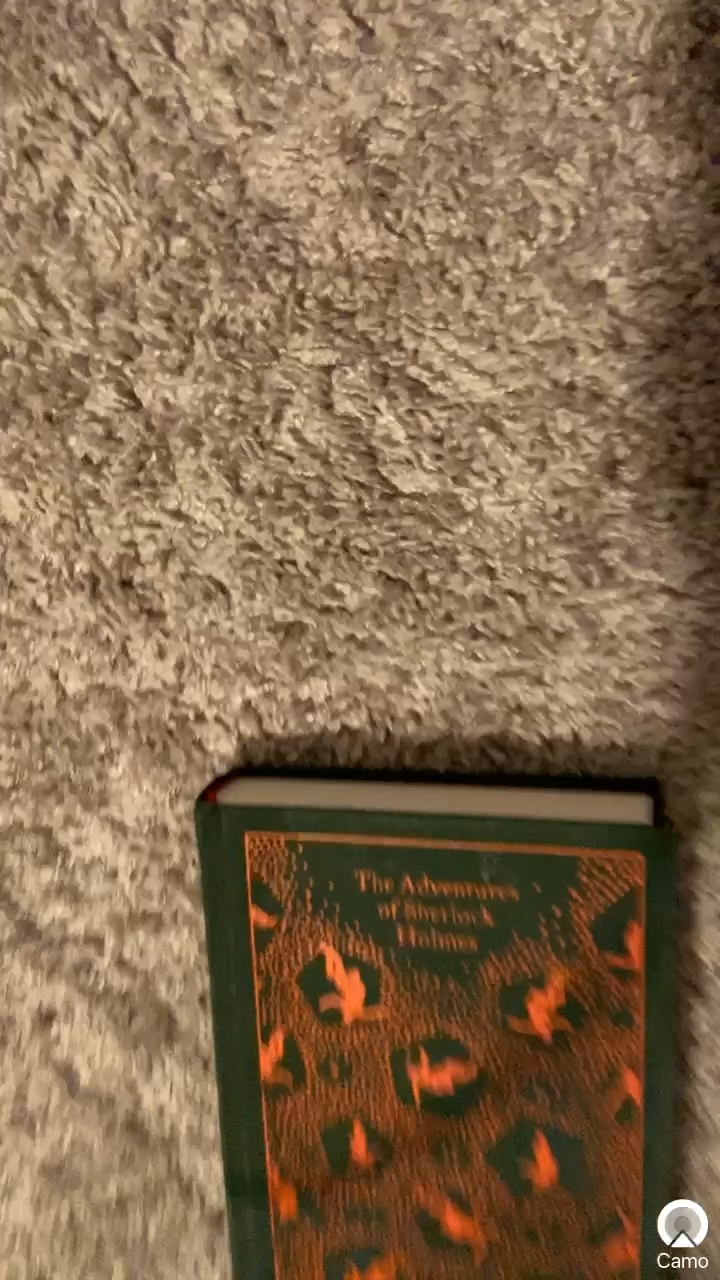Book: (178, 739, 720, 1280)
